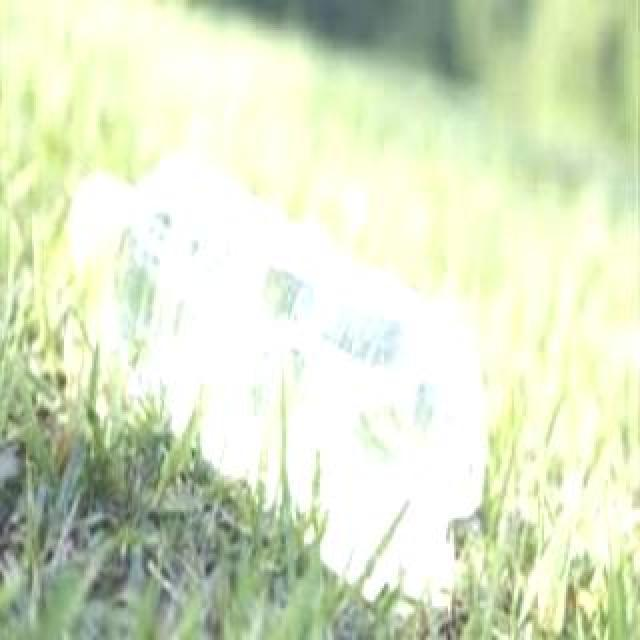Pet_Bottle: (60, 153, 486, 619)
